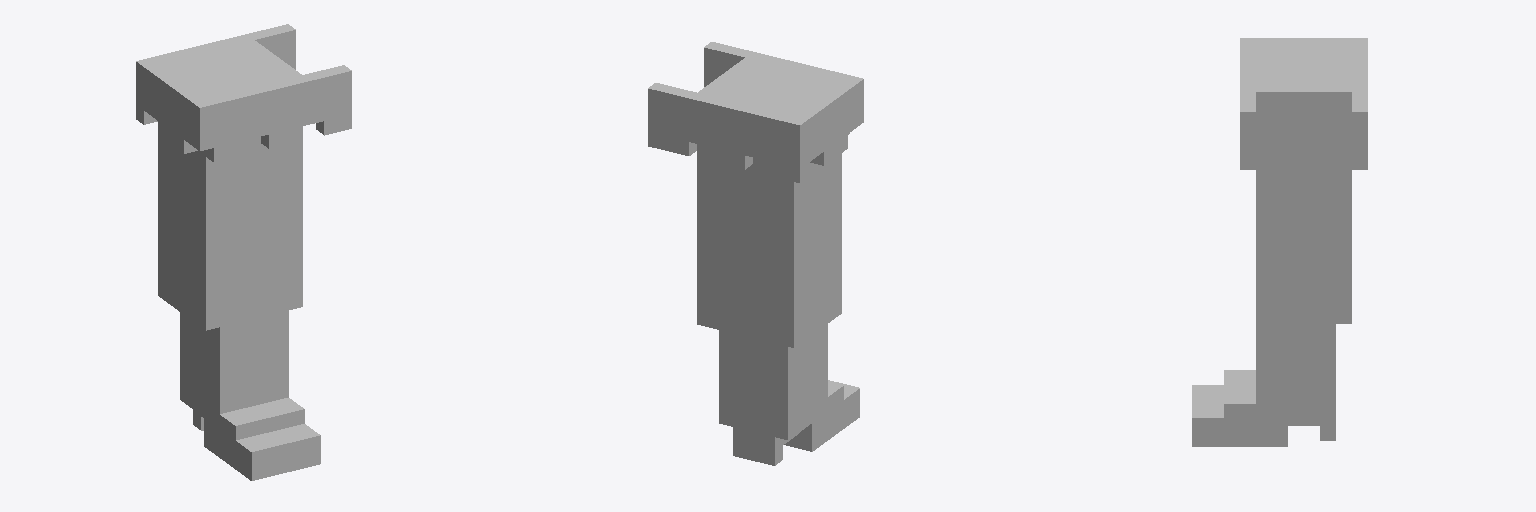
Rendered from pierna.obj.
3 renders of one model, left to right at view 1: azimuth 30°, elevation 25°; view 2: azimuth 150°, elevation 25°; view 3: azimuth 270°, elevation 25°, orthographic.
Parts seen in each view (by area): view 1: object 1; view 2: object 1; view 3: object 1.
Boxes of the visible parts, box(x1,y1,x2,y2) form: object 1: box(136, 24, 351, 480); object 1: box(648, 42, 863, 465); object 1: box(1192, 38, 1367, 446).
Bounding box in the file's own units: 1.1 × 2.5 × 1.1.